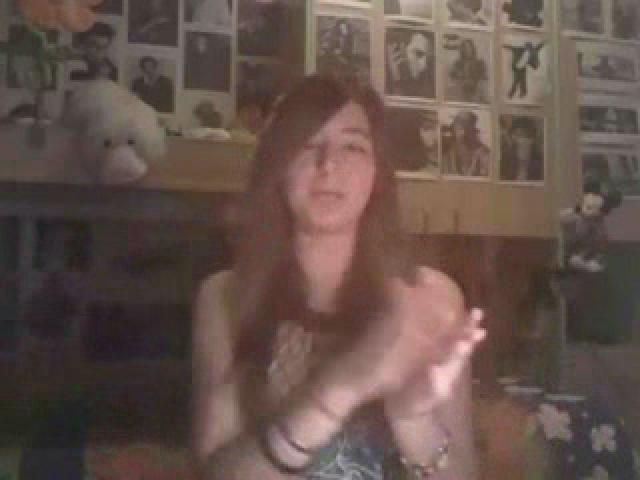F: (170, 60, 488, 480)
